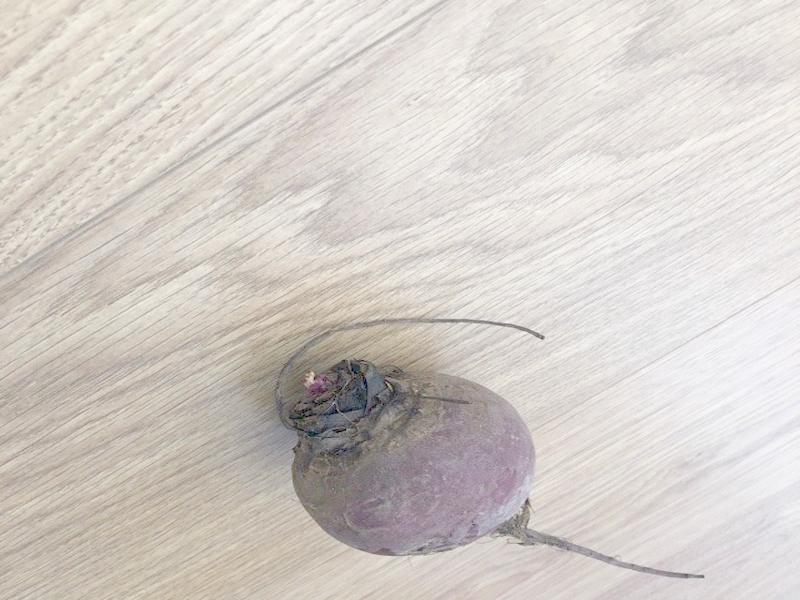Beet: (279, 318, 705, 578)
